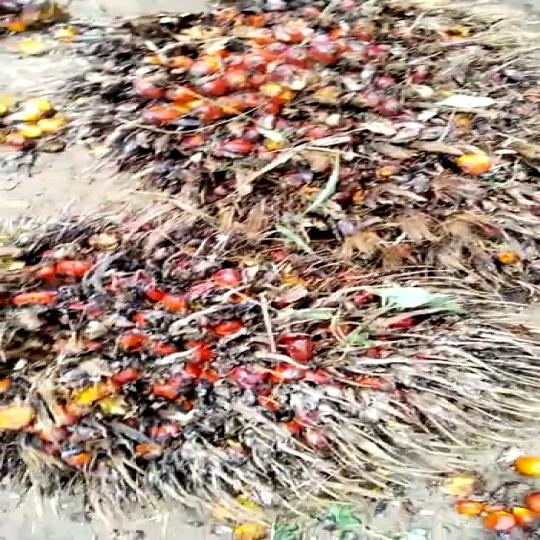terlalu masak: (0, 215, 489, 514), (49, 0, 525, 200)
